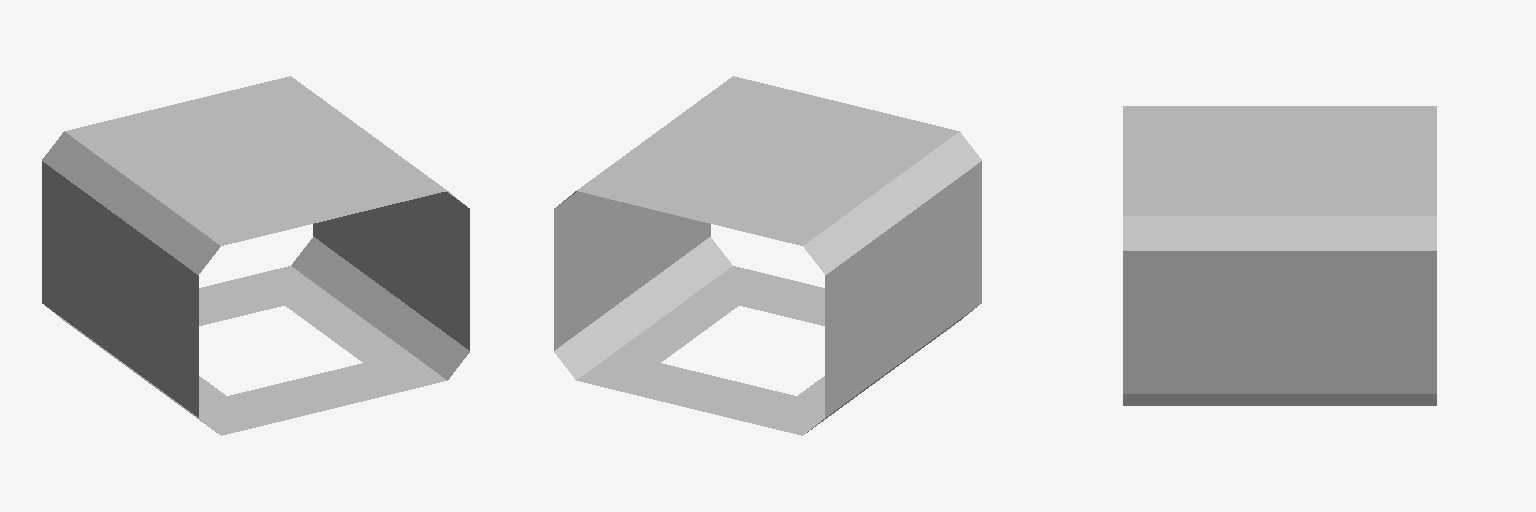
Rendered from Corridor_FloorHole.obj.
3 views of the same model, side by side, from view 1: azimuth 30°, elevation 25°; view 2: azimuth 150°, elevation 25°; view 3: azimuth 270°, elevation 25° (orthographic).
Visible parts, largest first — view 1: Corridor_Intersection_floor_Cube.025; view 2: Corridor_Intersection_floor_Cube.025; view 3: Corridor_Intersection_floor_Cube.025.
Part boxes in pixels (x1,y1,x2,y2): Corridor_Intersection_floor_Cube.025: (42,76,469,435); Corridor_Intersection_floor_Cube.025: (554,76,981,435); Corridor_Intersection_floor_Cube.025: (1123,106,1436,405).
Bounding box in the file's own units: 6 × 4 × 6.